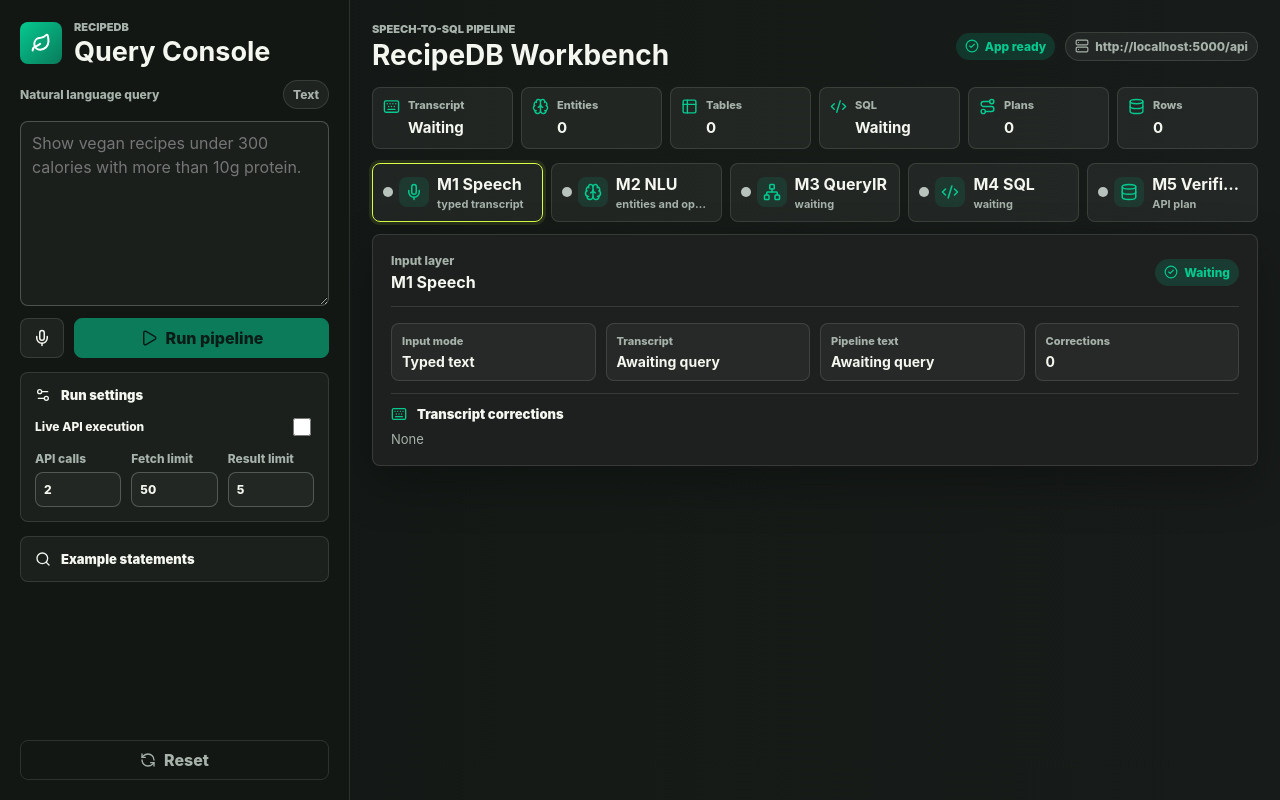
Test: voice input button toggles recognition start and stop
Click the button named "Start voice input" at (42, 338), box top-left (20, 318), bottom-right (64, 358)
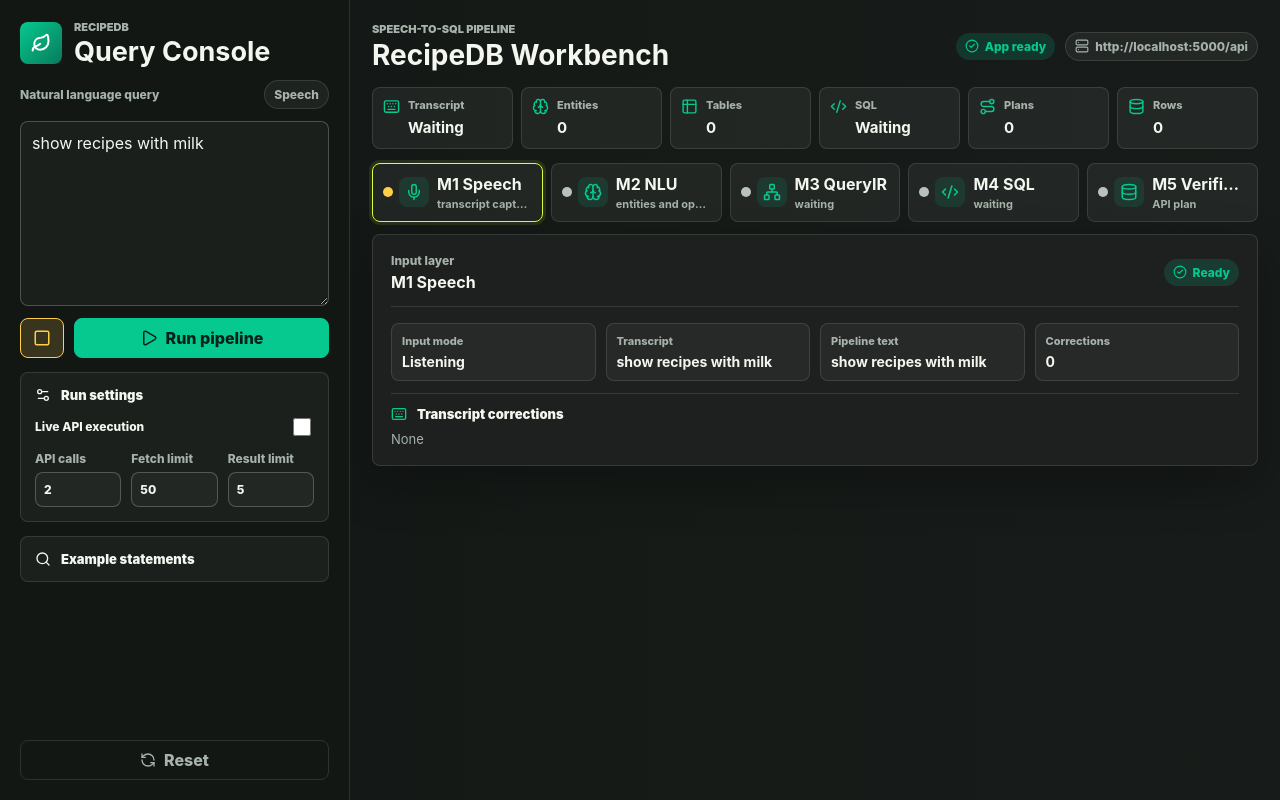
Expected: the text box labelled "Natural language query" holds "show recipes with milk", top-left (20, 121), bottom-right (329, 306)
Click the button named "Stop listening" at (42, 338), box top-left (20, 318), bottom-right (64, 358)
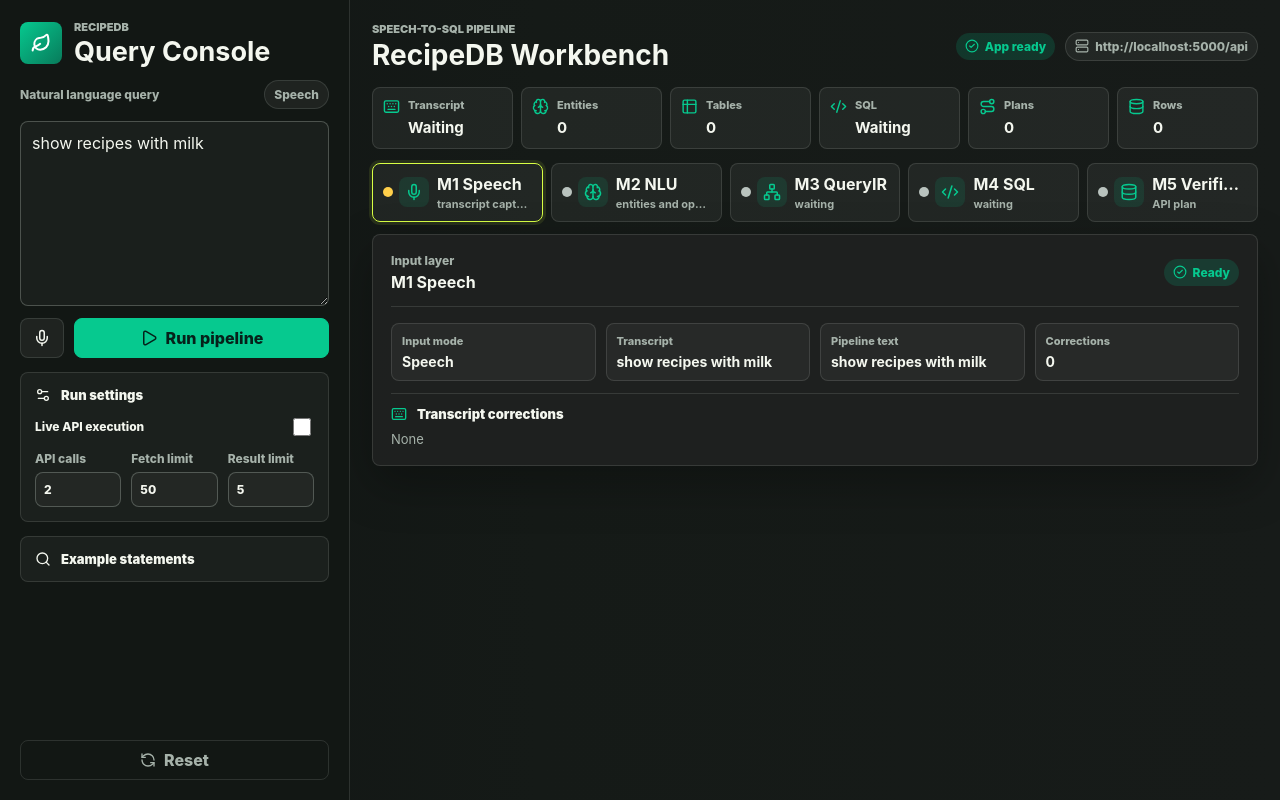
Expected: the button named "Start voice input" is shown, top-left (20, 318), bottom-right (64, 358)
